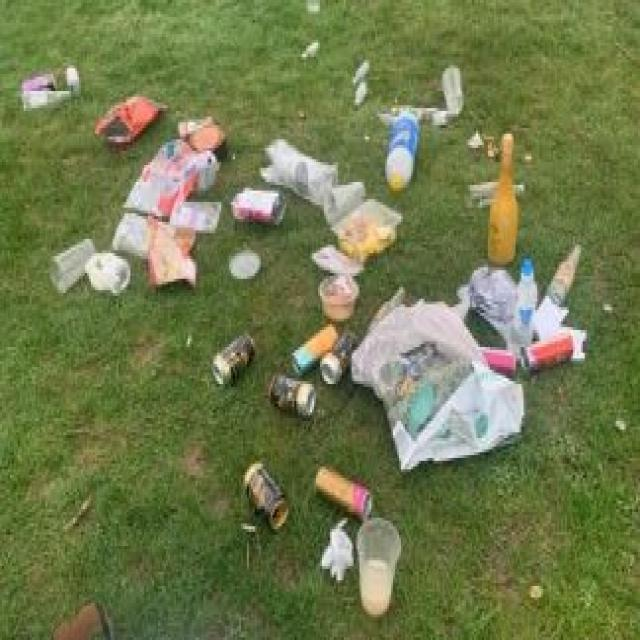dry: (376, 305, 532, 497), (53, 238, 146, 322), (482, 146, 545, 266), (225, 464, 308, 547), (80, 78, 170, 153), (318, 449, 396, 530), (376, 104, 444, 194), (354, 522, 412, 614), (193, 325, 270, 391), (12, 64, 96, 123), (222, 189, 306, 247), (516, 320, 598, 379), (259, 365, 323, 431), (507, 256, 562, 314), (319, 253, 368, 317), (290, 313, 330, 368), (328, 334, 362, 395), (445, 43, 470, 123)
